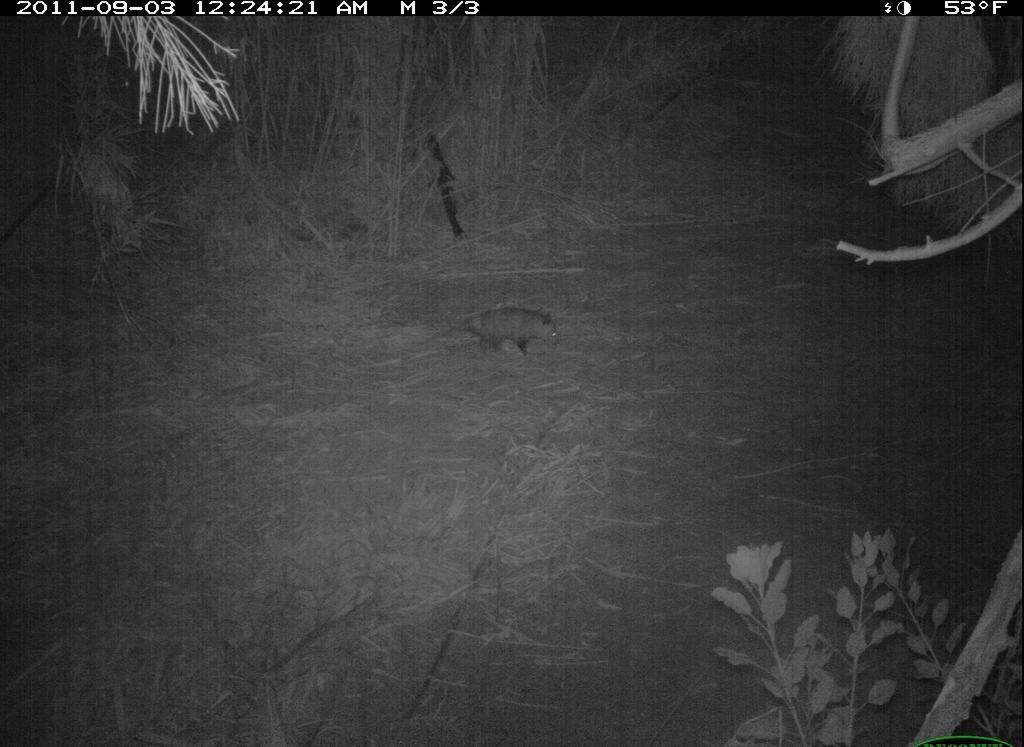opossum: (415, 303, 568, 377)
